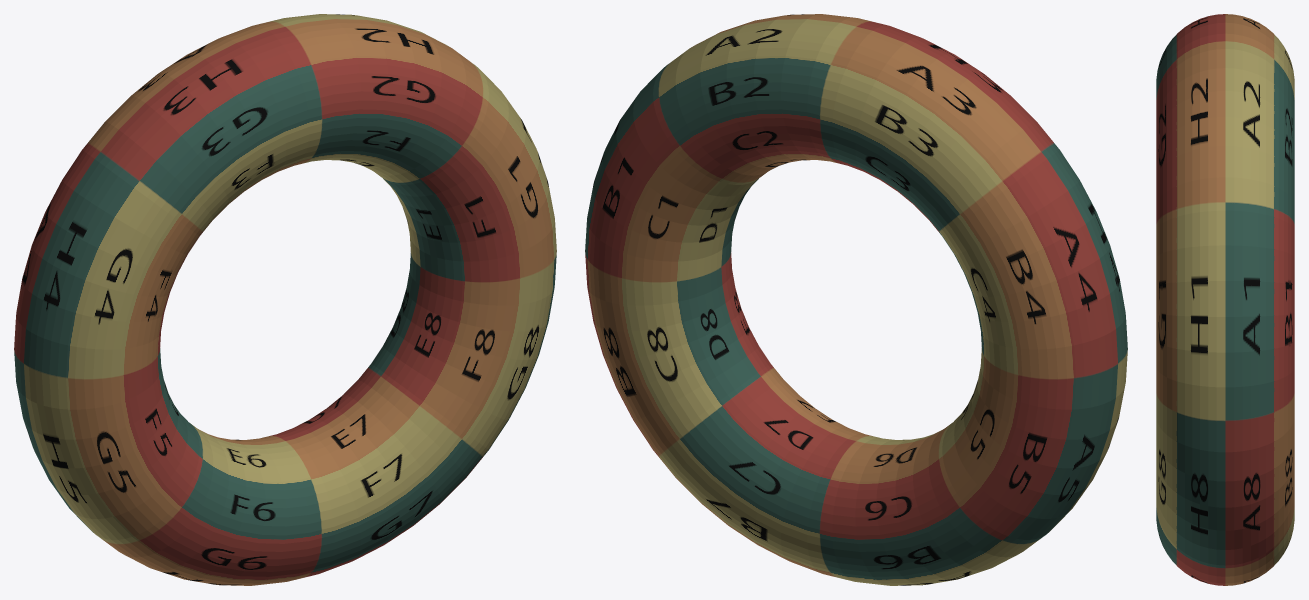
The model's file is texture_torus_R22_r22.glb.
The picture shows the model from 3 angles, left to right: view 1: azimuth 30°, elevation 25°; view 2: azimuth 150°, elevation 25°; view 3: azimuth 270°, elevation 25°; orthographic projection. The views are drawn at different scales.
Parts seen in each view (by area): view 1: world; view 2: world; view 3: world.
Part boxes in pixels (x1=…): world: x1=14, y1=14, x2=556, y2=585; world: x1=585, y1=14, x2=1127, y2=585; world: x1=1156, y1=14, x2=1294, y2=585.
Bounding box in the file's own units: 32.53 × 32.47 × 7.85.
1 material, 1 textured.
